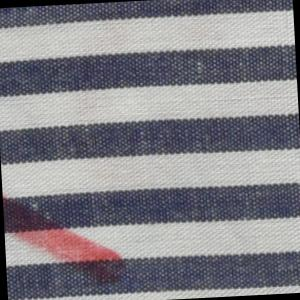Stain: (3, 187, 134, 294), (133, 286, 134, 287)
